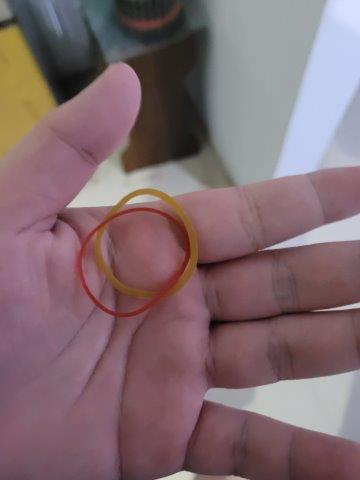karet: (75, 207, 189, 319), (97, 190, 199, 294)
